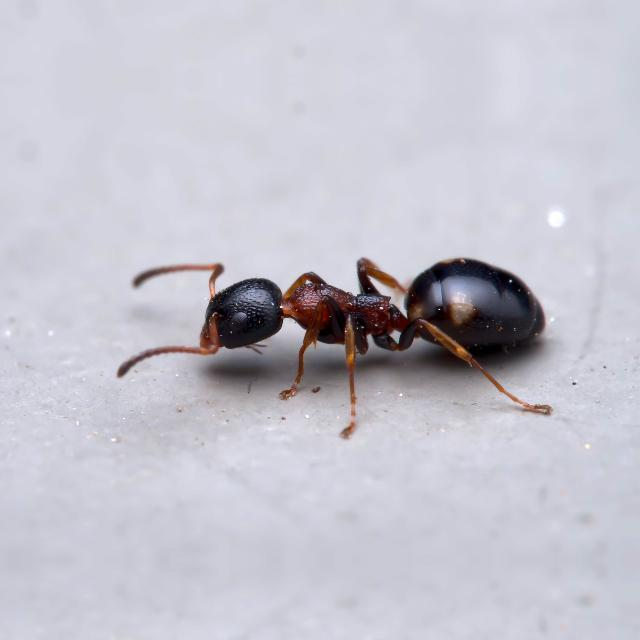Dolichoderus: (141, 220, 565, 396)
